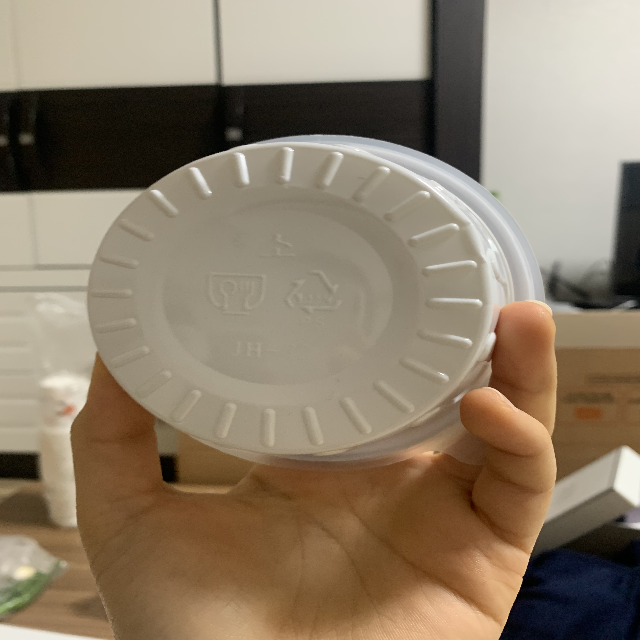ps: (282, 269, 346, 330)
